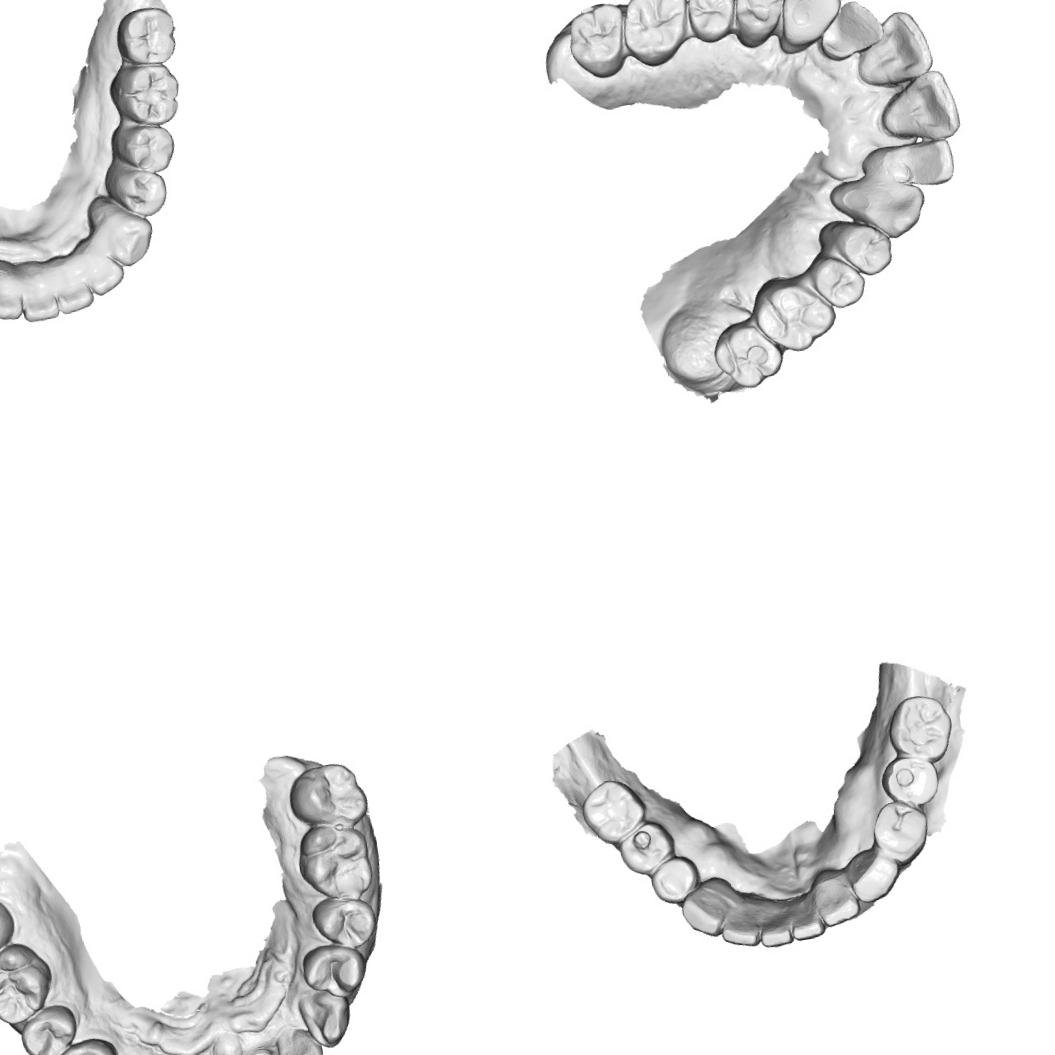canine: (826, 168, 932, 249), (769, 0, 850, 56), (98, 196, 158, 270), (676, 873, 740, 942), (296, 986, 356, 1052), (846, 844, 904, 905)
implant: (242, 1043, 275, 1055)
incisor: (874, 66, 964, 152), (849, 8, 936, 90), (858, 135, 958, 197), (814, 0, 887, 64), (808, 864, 862, 928), (14, 258, 61, 323), (48, 255, 96, 314), (78, 242, 127, 298), (717, 898, 764, 952), (754, 898, 794, 950), (786, 894, 826, 942), (273, 1022, 327, 1055), (0, 259, 25, 324)
molar: (747, 268, 842, 358), (292, 819, 376, 904), (284, 758, 371, 836), (708, 314, 788, 394), (105, 58, 185, 132), (883, 690, 958, 768), (562, 0, 632, 83), (576, 774, 652, 849), (616, 0, 696, 71), (0, 938, 58, 1028), (110, 3, 181, 70), (0, 892, 21, 975)
premolar: (815, 212, 898, 284), (100, 152, 170, 223), (868, 796, 935, 870), (299, 938, 371, 1003), (309, 890, 380, 954), (108, 118, 179, 180), (804, 248, 870, 314), (614, 817, 680, 879), (876, 751, 942, 812), (16, 1001, 82, 1055), (728, 0, 791, 51), (647, 852, 703, 907), (682, 0, 742, 47), (53, 1034, 122, 1055)
